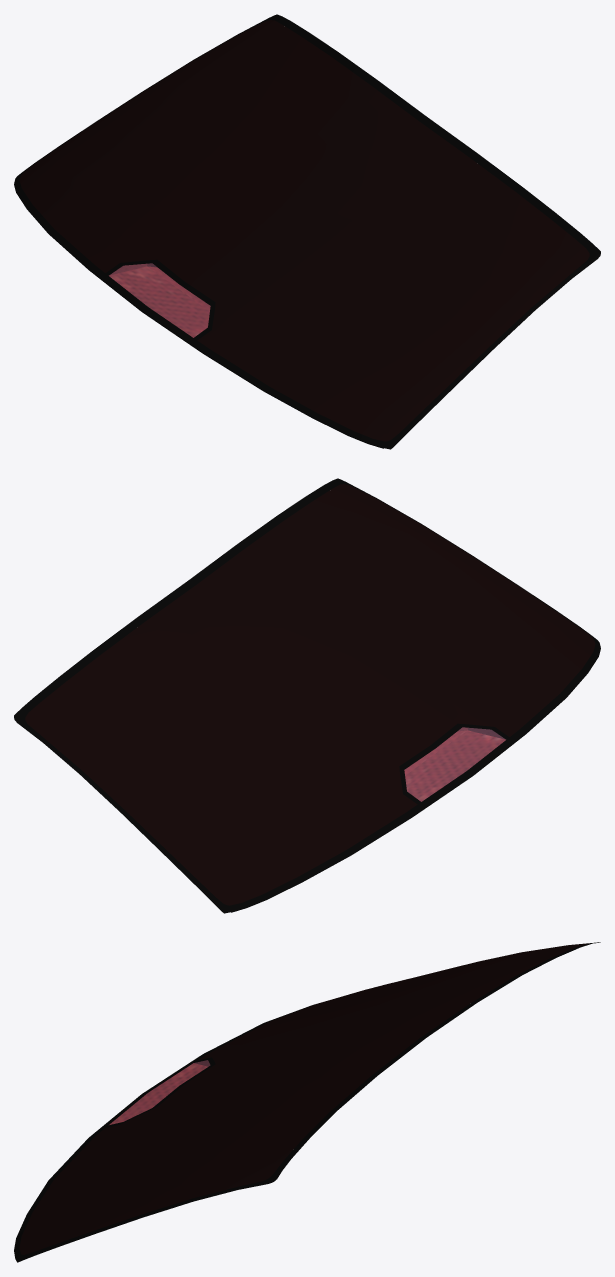
The picture shows the model from 3 angles, top to bottom: view 1: azimuth 30°, elevation 25°; view 2: azimuth 150°, elevation 25°; view 3: azimuth 330°, elevation 25°; orthographic projection.
Parts seen in each view (by area): view 1: M261_365C_C_M261_365C_C_4_DTaSI, M261_365C_C_M261_365C_C_3_DTaSI, M261_365C_C_M261_365C_C_2_N, M261_365C_C_1_DTaSI_M261_365C_C; view 2: M261_365C_C_M261_365C_C_4_DTaSI, M261_365C_C_M261_365C_C_3_DTaSI, M261_365C_C_M261_365C_C_2_N, M261_365C_C_1_DTaSI_M261_365C_C; view 3: M261_365C_C_M261_365C_C_4_DTaSI, M261_365C_C_M261_365C_C_3_DTaSI, M261_365C_C_M261_365C_C_2_N, M261_365C_C_1_DTaSI_M261_365C_C.
Boxes of the visible parts, box(x1,y1,x2,y2) form: M261_365C_C_M261_365C_C_4_DTaSI: box(19, 20, 589, 441); M261_365C_C_M261_365C_C_3_DTaSI: box(14, 14, 600, 449); M261_365C_C_M261_365C_C_2_N: box(109, 263, 210, 337); M261_365C_C_1_DTaSI_M261_365C_C: box(109, 263, 210, 337); M261_365C_C_M261_365C_C_4_DTaSI: box(25, 484, 595, 905); M261_365C_C_M261_365C_C_3_DTaSI: box(14, 478, 600, 913); M261_365C_C_M261_365C_C_2_N: box(404, 727, 505, 801); M261_365C_C_1_DTaSI_M261_365C_C: box(404, 727, 505, 801); M261_365C_C_M261_365C_C_4_DTaSI: box(19, 943, 589, 1254); M261_365C_C_M261_365C_C_3_DTaSI: box(14, 942, 600, 1262); M261_365C_C_M261_365C_C_2_N: box(109, 1060, 210, 1124); M261_365C_C_1_DTaSI_M261_365C_C: box(110, 1060, 209, 1124).
Bounding box in the file's own units: 68.98 × 31.56 × 150.
